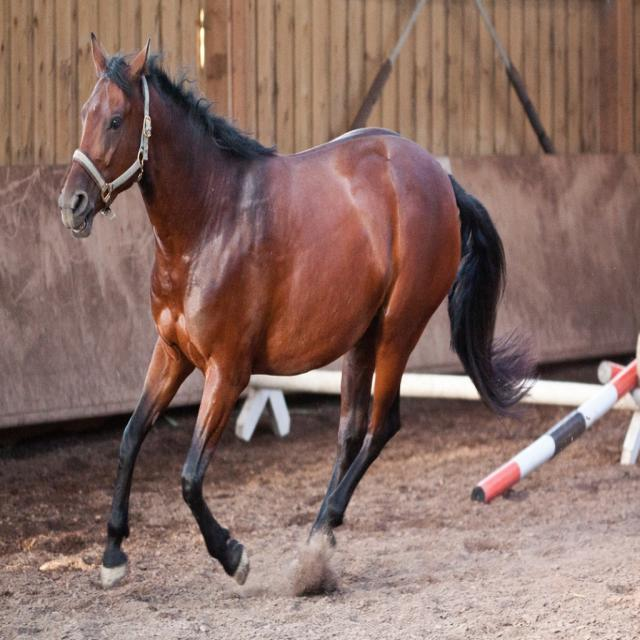Horse: (57, 25, 543, 587)
